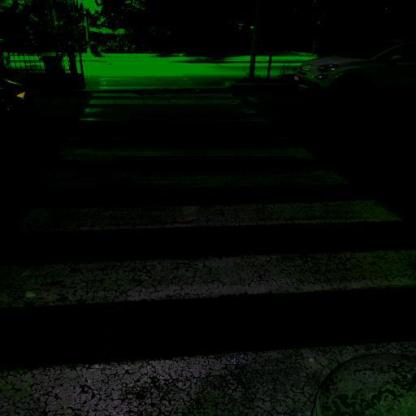crosswalk: (0, 198, 416, 314), (35, 137, 360, 190)
